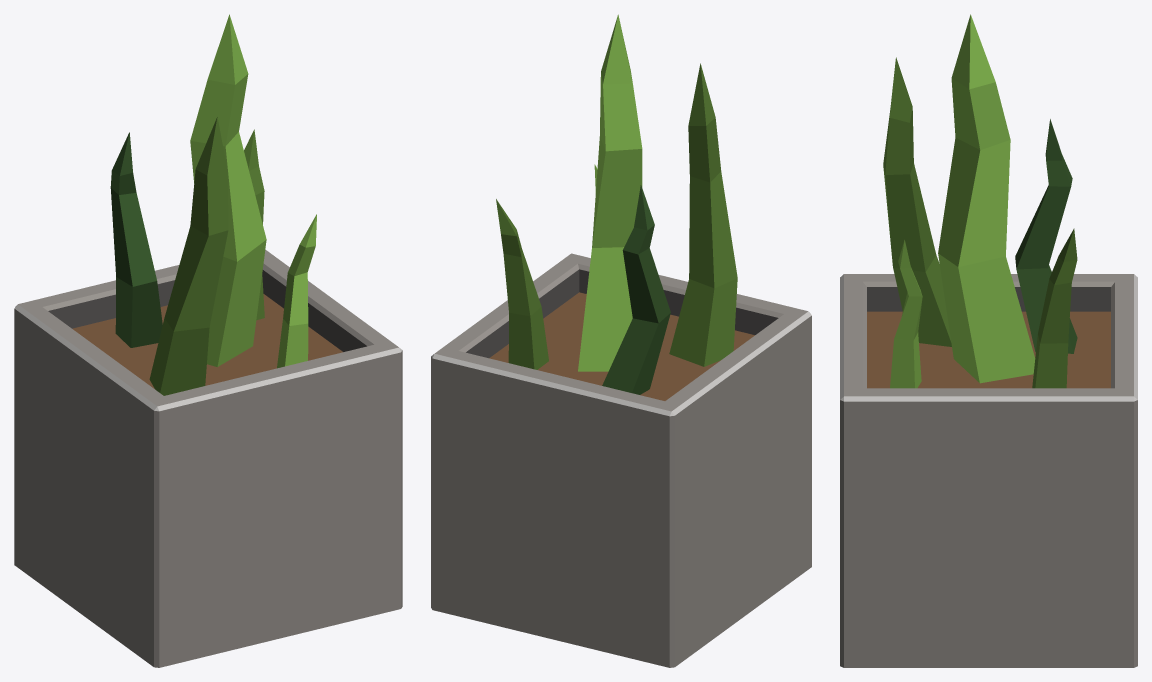
The model's file is PlantPot_03.glb.
The picture shows the model from 3 angles, left to right: view 1: azimuth 30°, elevation 25°; view 2: azimuth 150°, elevation 25°; view 3: azimuth 270°, elevation 25°; orthographic projection. The views are drawn at different scales.
Visible parts, largest first — view 1: PlantPot_03; view 2: PlantPot_03; view 3: PlantPot_03.
Boxes of the visible parts, x1=… form: PlantPot_03: x1=14, y1=14, x2=402, y2=667; PlantPot_03: x1=431, y1=14, x2=811, y2=667; PlantPot_03: x1=840, y1=14, x2=1137, y2=667.
Size of what is drawn, in the model's own units: 0.5144 by 1.14 by 0.5144.
1 material, 1 textured.
